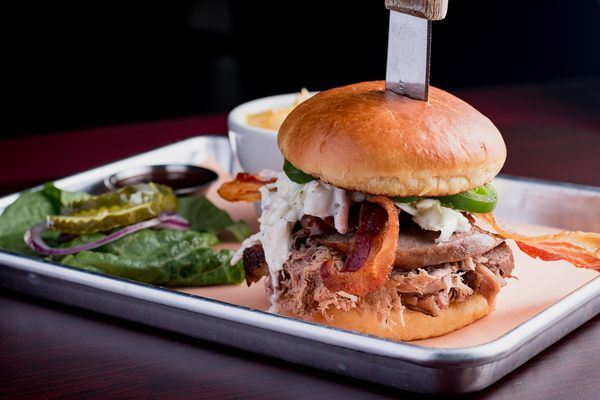soup: (235, 79, 518, 341)
sushi: (227, 90, 314, 173)
